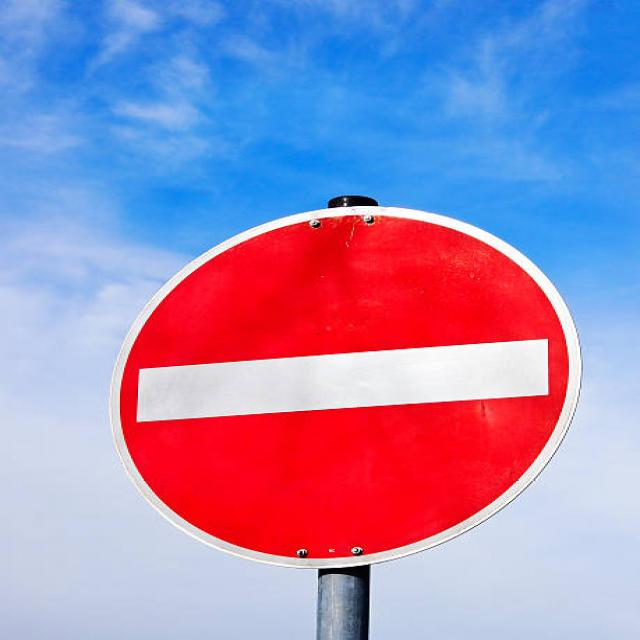do_not_enter: (104, 195, 585, 572)
